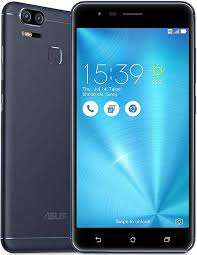asus: (69, 1, 195, 252), (1, 1, 74, 252)
